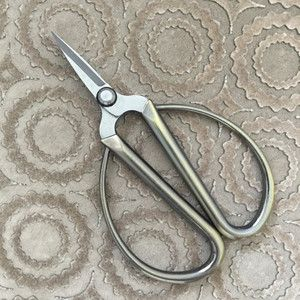scissor: (48, 29, 276, 285)
